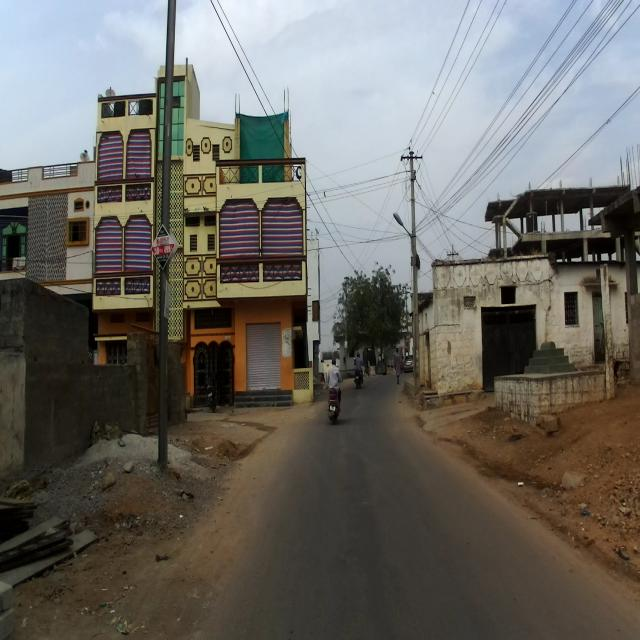electric pole ahead at: (152, 0, 186, 468), (397, 137, 434, 399)
